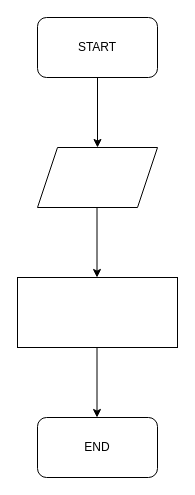
Image size: 195x495. Some labels were removed from this diagram. The shapes that lost their labels are listed below. From the top down, each one's centre as x and y in pixels, then its label:
At (97,177): "var eded1=a var eded2=b".
At (97,312): "console.log(eded2,eded1)".
